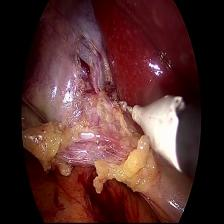Grasper: (18, 94, 52, 138)
Hook: (118, 96, 184, 151)
